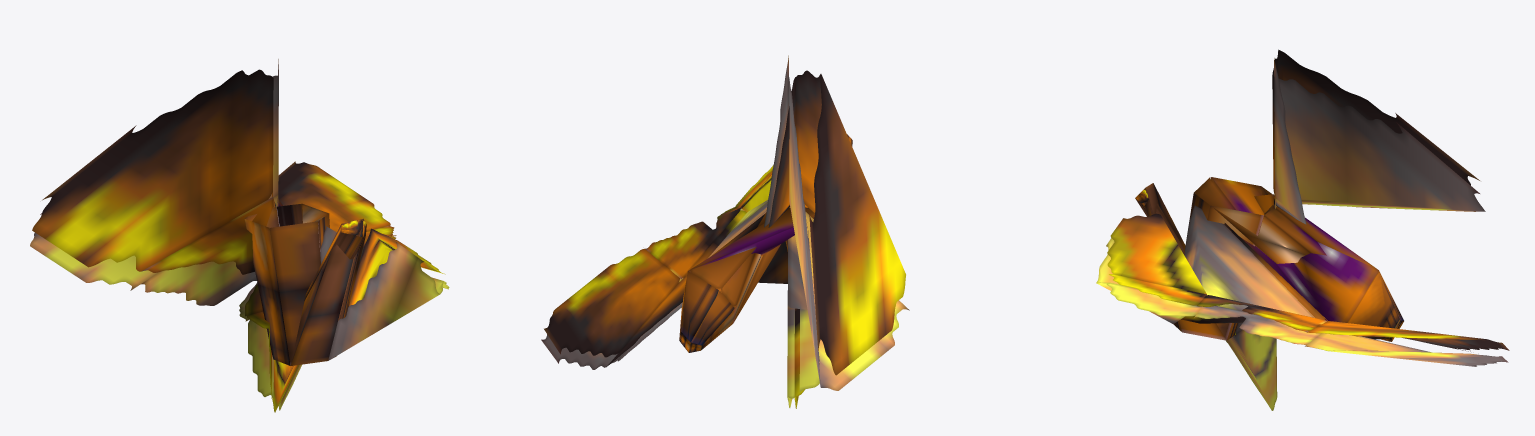
3 views of the same model, side by side, from view 1: azimuth 30°, elevation 25°; view 2: azimuth 150°, elevation 25°; view 3: azimuth 270°, elevation 25° (orthographic).
Parts seen in each view (by area): view 1: T1L2M001_20; view 2: T1L2M001_20; view 3: T1L2M001_20.
Part boxes in pixels (<box>): T1L2M001_20: <box>30,59,449,412</box>; T1L2M001_20: <box>541,55,909,408</box>; T1L2M001_20: <box>1096,49,1509,410</box>.
Bounding box in the file's own units: 0.3575 × 0.4805 × 0.5013.
